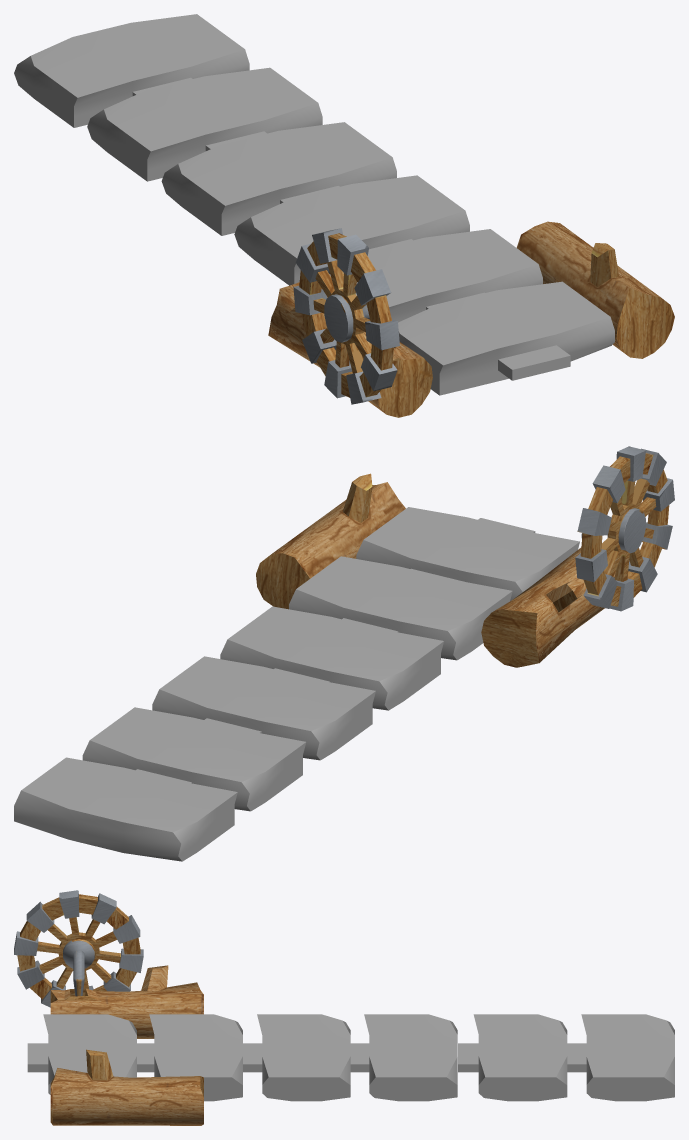
File: Bridge.fbx
3 renders of one model, top to bottom at view 1: azimuth 30°, elevation 25°; view 2: azimuth 150°, elevation 25°; view 3: azimuth 270°, elevation 25°, orthographic. The views are drawn at different scales.
Visible parts, largest first — view 1: pCylinder6, polySurface9, polySurface13, polySurface8, polySurface12, polySurface11, polySurface10; view 2: pCylinder6, polySurface8, polySurface12, polySurface13, polySurface11, polySurface10, polySurface9; view 3: pCylinder6, polySurface13, polySurface11, polySurface12, polySurface8, polySurface10, polySurface9.
Boxes of the visible parts, bbox=[...] form: pCylinder6: bbox=[268, 221, 674, 417]; polySurface9: bbox=[398, 281, 614, 395]; polySurface13: bbox=[87, 67, 322, 181]; polySurface8: bbox=[14, 14, 249, 127]; polySurface12: bbox=[161, 122, 396, 235]; polySurface11: bbox=[234, 175, 469, 285]; polySurface10: bbox=[329, 229, 542, 322]; pCylinder6: bbox=[256, 446, 674, 667]; polySurface8: bbox=[14, 757, 237, 861]; polySurface12: bbox=[152, 656, 375, 760]; polySurface13: bbox=[82, 707, 306, 811]; polySurface11: bbox=[220, 606, 443, 710]; polySurface10: bbox=[289, 556, 512, 660]; polySurface9: bbox=[356, 507, 579, 601]; pCylinder6: bbox=[14, 890, 203, 1125]; polySurface13: bbox=[458, 1014, 567, 1101]; polySurface11: bbox=[243, 1014, 350, 1101]; polySurface12: bbox=[350, 1014, 457, 1101]; polySurface8: bbox=[567, 1014, 674, 1101]; polySurface10: bbox=[137, 1014, 242, 1101]; polySurface9: bbox=[27, 1014, 136, 1094].
Size of the model in its own units: 51.27 by 26.92 by 125.
